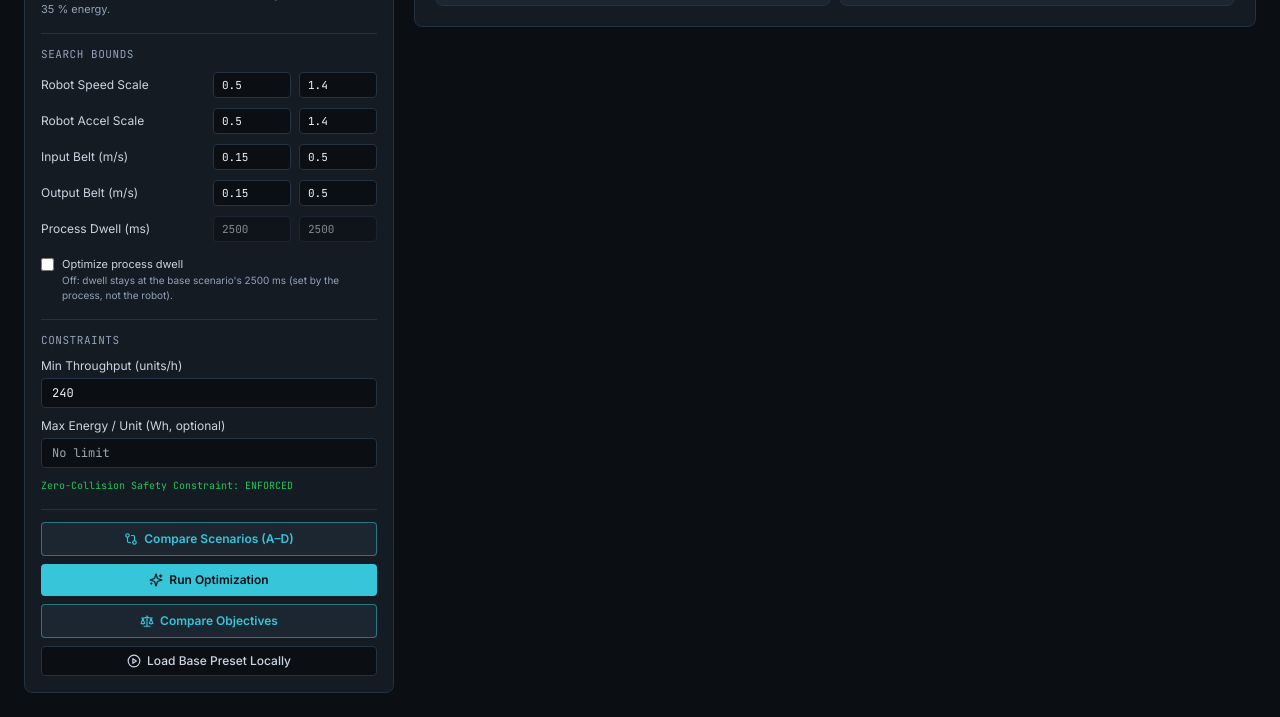
Test: OptimizationPage › locks process dwell by default and compares all three objectives side by side
(page scrolled)
Expected: the number field named "Process Dwell (ms) Min" is disabled, [213,216,291,242]
Click the button "Compare Objectives": (209, 621) [41,604,377,638]
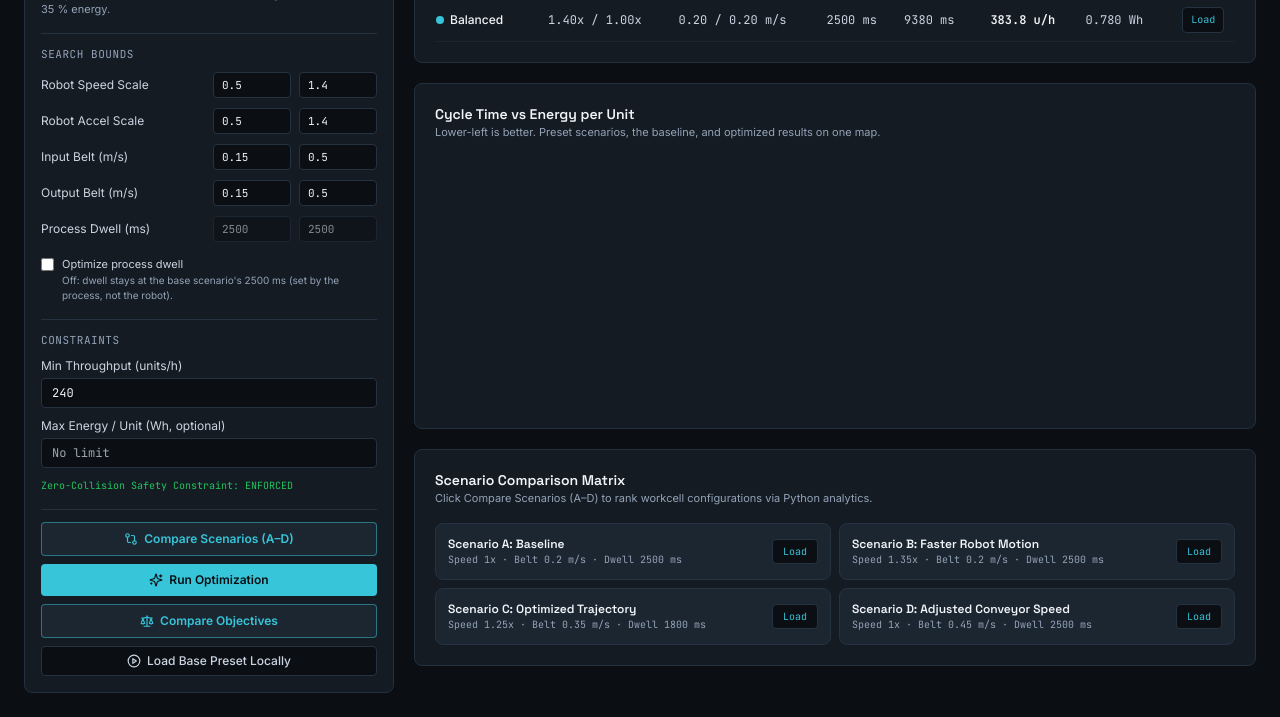
Now the element with test id "tradeoff-map" is shown, box [414,82,1256,429]
Opting in releases the dwell bounds.
Click the checkbox labelled "Optimize process dwell": (48, 265) [41,258,54,271]
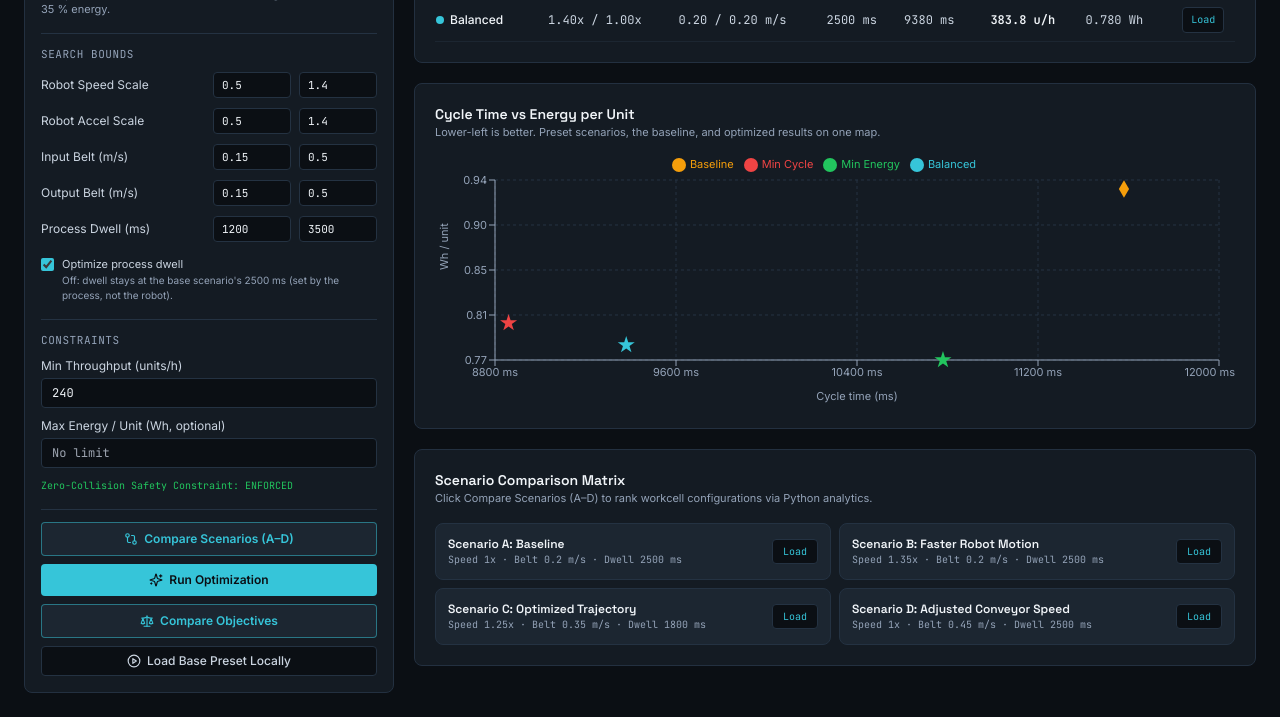
Now the number field named "Process Dwell (ms) Min" is enabled, box [213,216,291,242]
